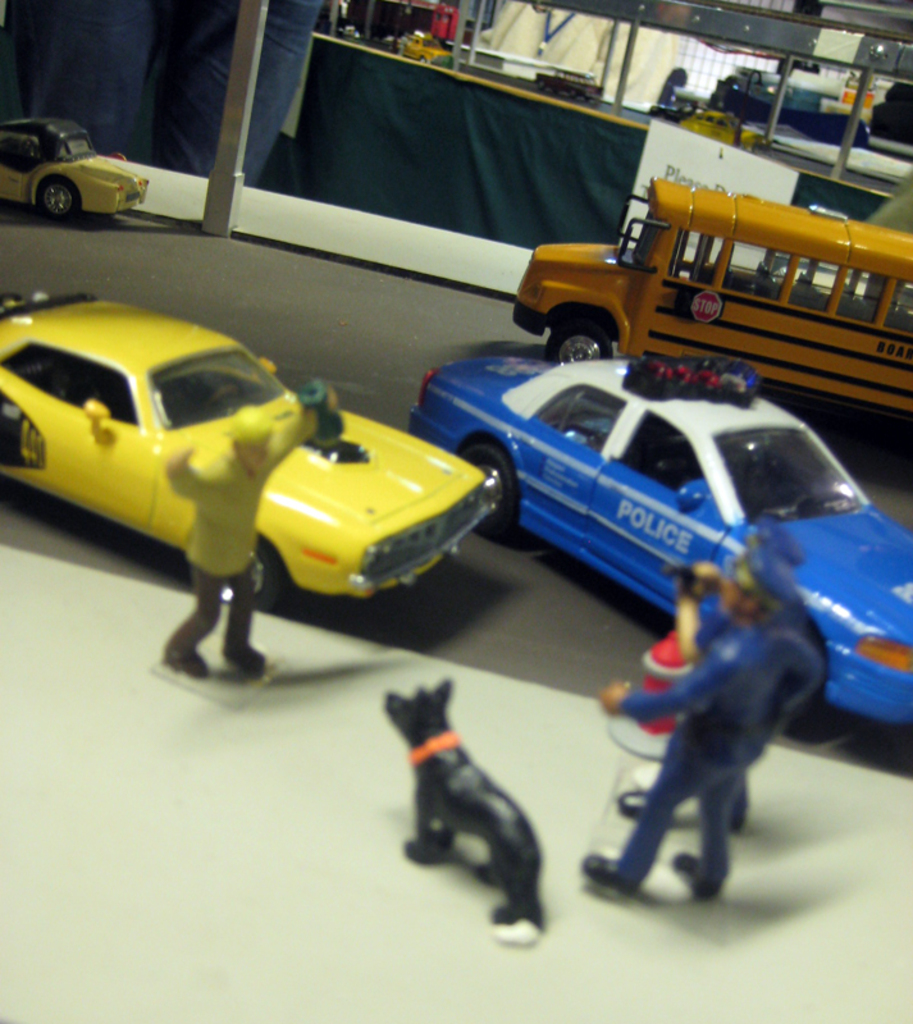Bus: (509, 168, 911, 416)
